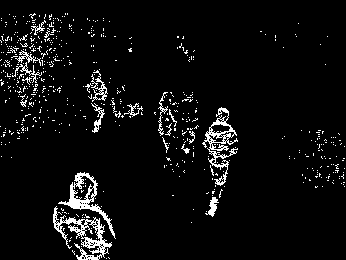person: (52, 172, 117, 259), (202, 106, 238, 216), (179, 89, 199, 163), (156, 90, 176, 163), (86, 71, 108, 133)
